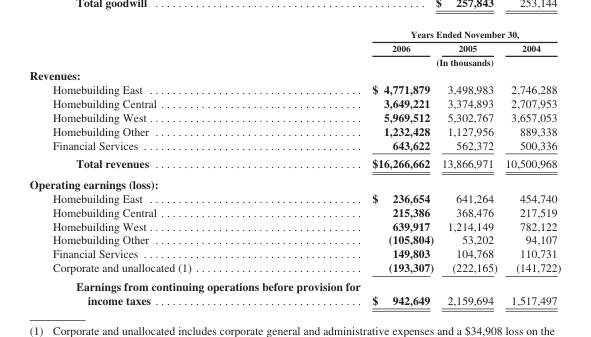table: (28, 28, 560, 306)
table column: (28, 28, 365, 306), (365, 28, 437, 306), (437, 28, 500, 306), (500, 28, 560, 306)
table column header: (28, 28, 560, 67)
table projected row header: (28, 173, 560, 190), (28, 67, 560, 81)
table row: (28, 276, 560, 306), (28, 153, 560, 173), (28, 173, 560, 190), (28, 137, 560, 153), (28, 260, 560, 276), (28, 67, 560, 81), (28, 81, 560, 95), (28, 95, 560, 109), (28, 109, 560, 123), (28, 123, 560, 137), (28, 190, 560, 204), (28, 204, 560, 218), (28, 218, 560, 232), (28, 232, 560, 246), (28, 246, 560, 260), (28, 28, 560, 41), (28, 41, 560, 54), (28, 54, 560, 67)
table spanning cell: (365, 28, 560, 41), (365, 54, 560, 67)
